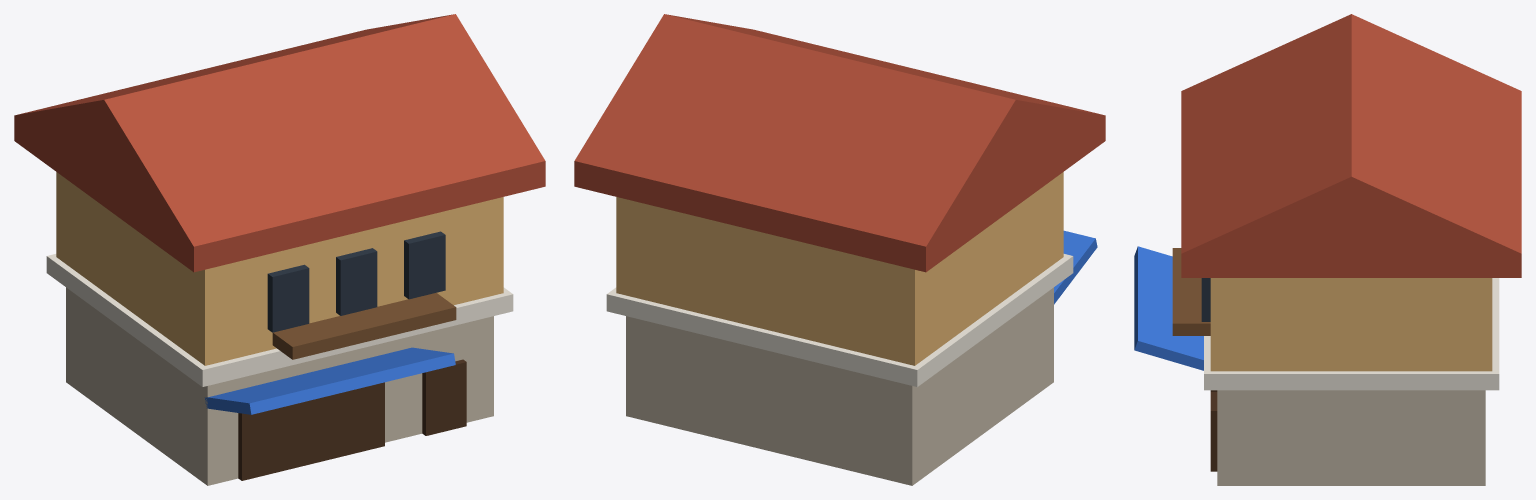
Rendered from house_1_b.glb.
The picture shows the model from 3 angles, left to right: view 1: azimuth 30°, elevation 25°; view 2: azimuth 150°, elevation 25°; view 3: azimuth 270°, elevation 25°; orthographic projection. The views are drawn at different scales.
Visible parts, largest first — view 1: house_1_b; view 2: house_1_b; view 3: house_1_b.
Part boxes in pixels (box(x1,y1,x2,y2)): house_1_b: box(14, 14, 545, 485); house_1_b: box(574, 14, 1105, 485); house_1_b: box(1134, 14, 1521, 485).
Size of the model in its own units: 0.172 by 0.16 by 0.173.
